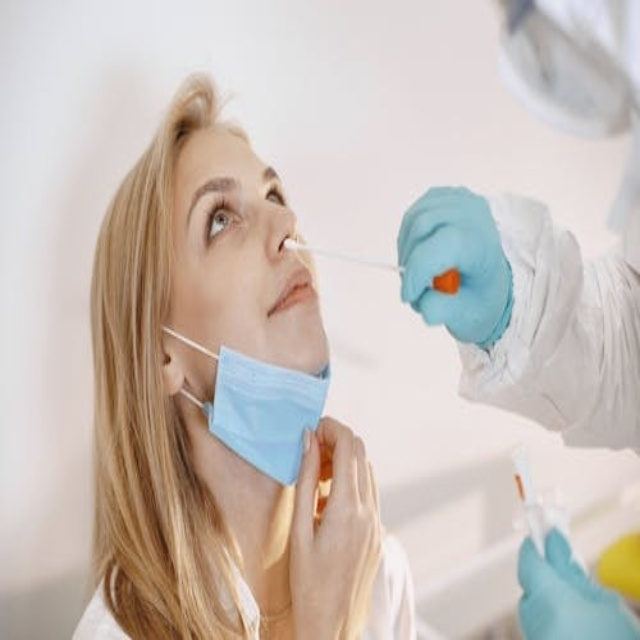Guantes: (396, 185, 515, 351), (515, 525, 640, 638)
Mascara: (488, 0, 634, 148)
Sin_gafas: (184, 154, 296, 254)
Sin_guantes: (286, 417, 380, 639)
Sin_mascara: (259, 261, 326, 352)
